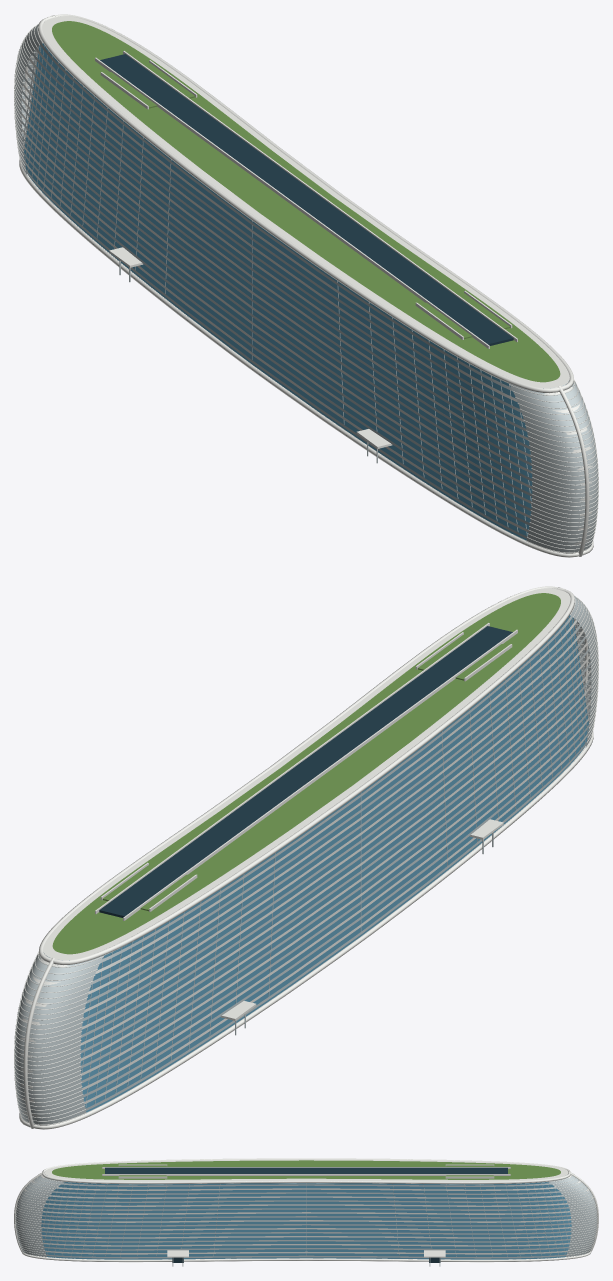
The model's file is slab-1.glb.
3 renders of one model, top to bottom at view 1: azimuth 30°, elevation 25°; view 2: azimuth 150°, elevation 25°; view 3: azimuth 270°, elevation 25°, orthographic. The views are drawn at different scales.
Bounding box in the file's own units: 3.5 × 4.17 × 27.06.
